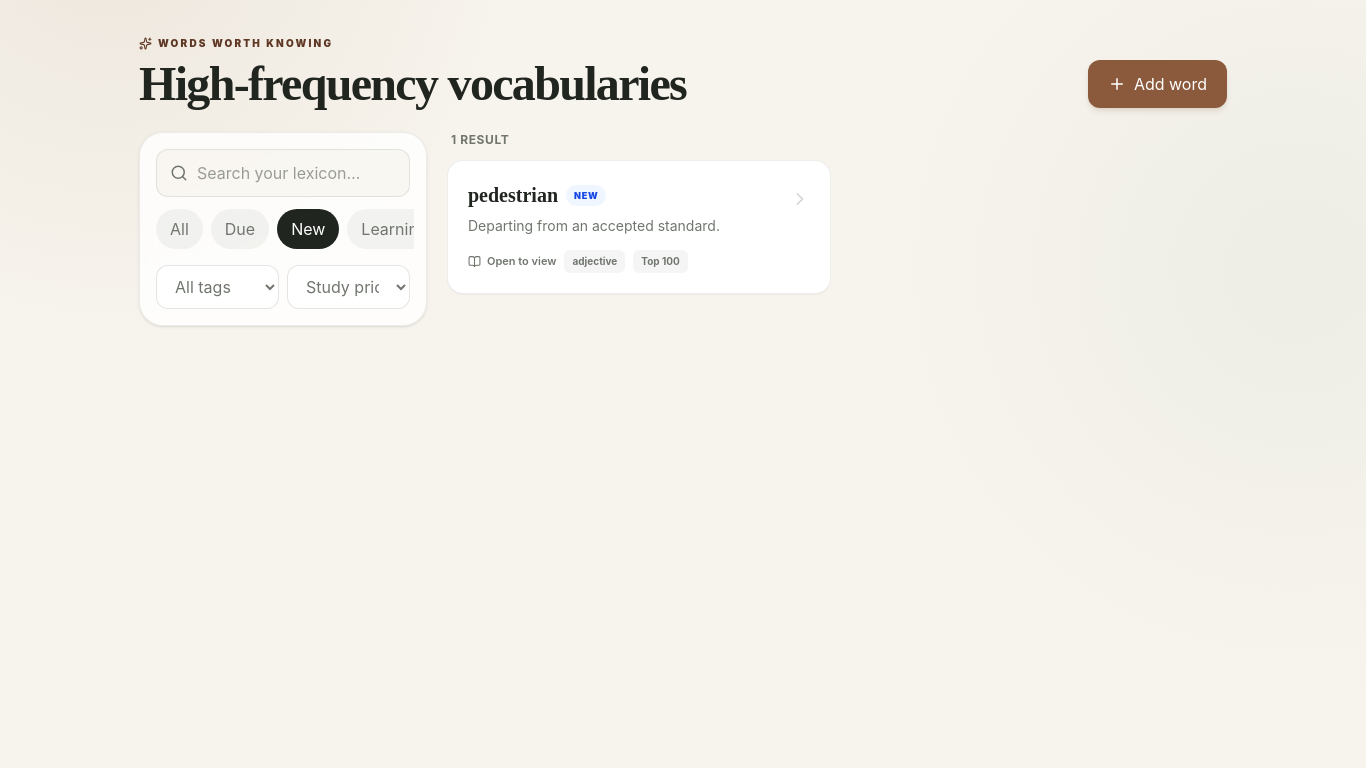
Test: WordsPage vocabulary deep links › enrolls a word only after Send to Review is selected
Click the button "pedestrian" at [639, 227], box [447,160,831,294]
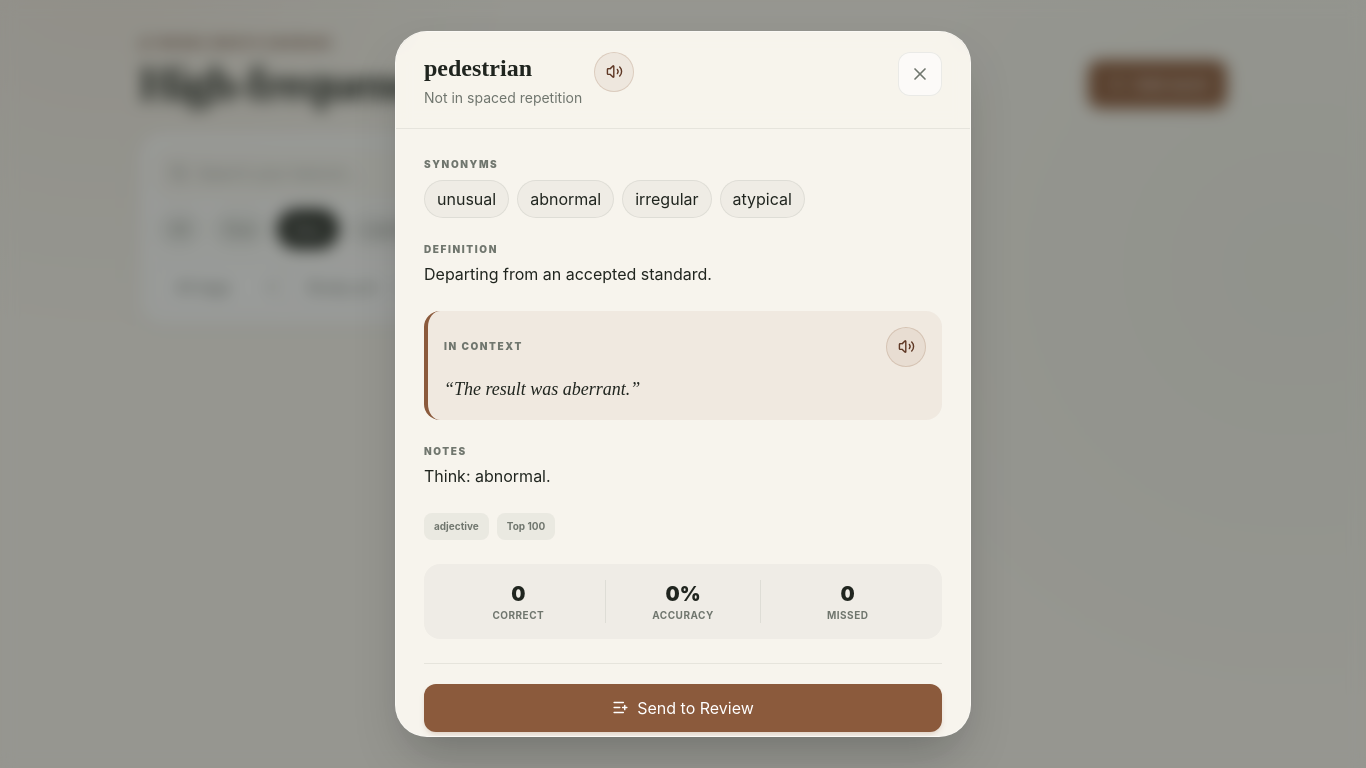
expect the button "Send to Review" is enabled: met
Click the button "Send to Review" at [683, 708], box [424,684,942,732]
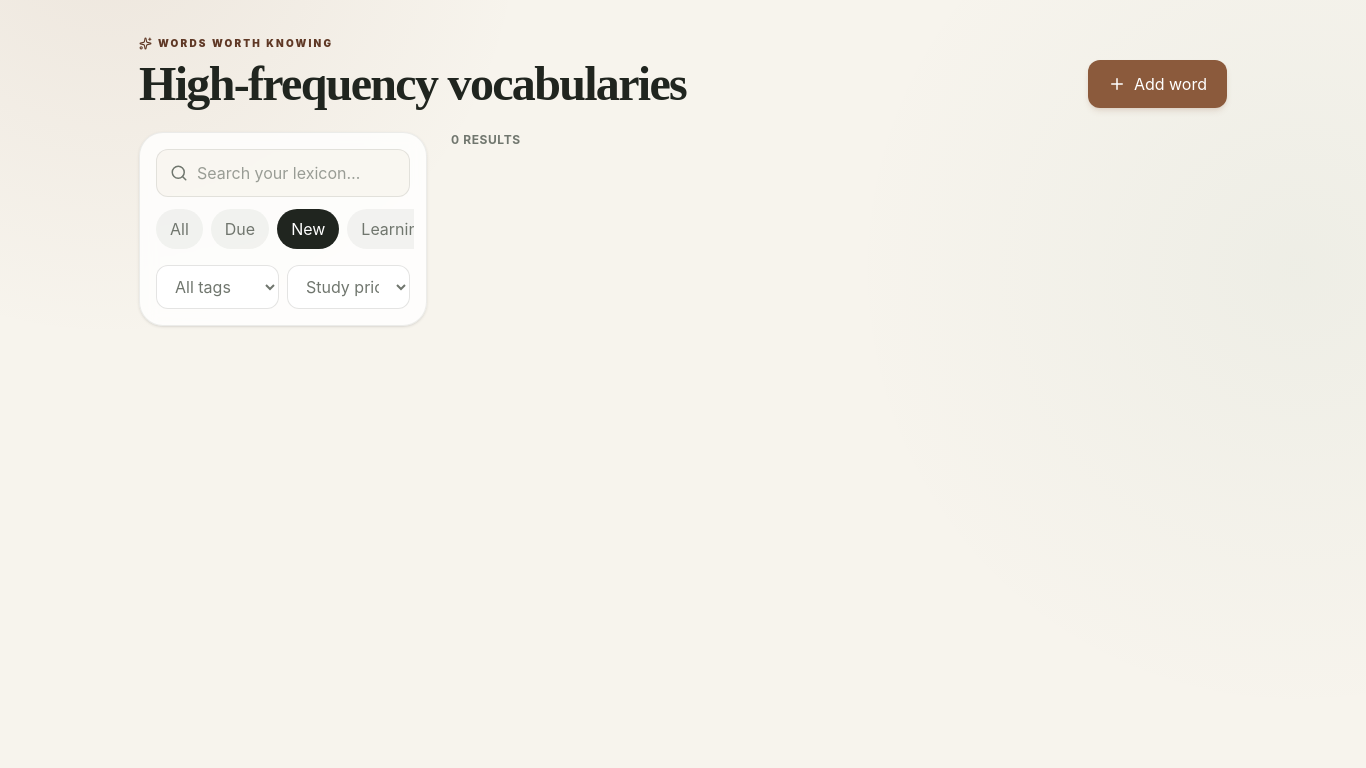
expect the dialog is gone: met
